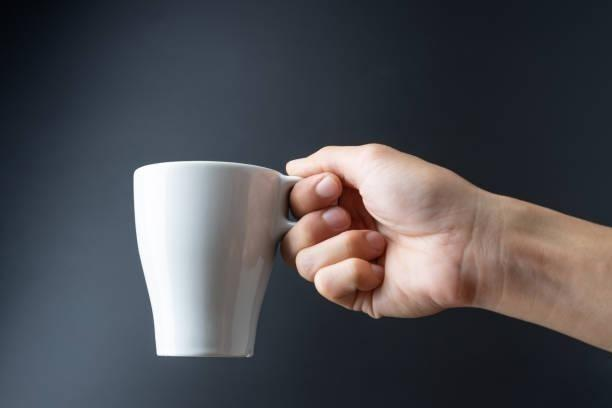cup-handle: (131, 159, 322, 361)
